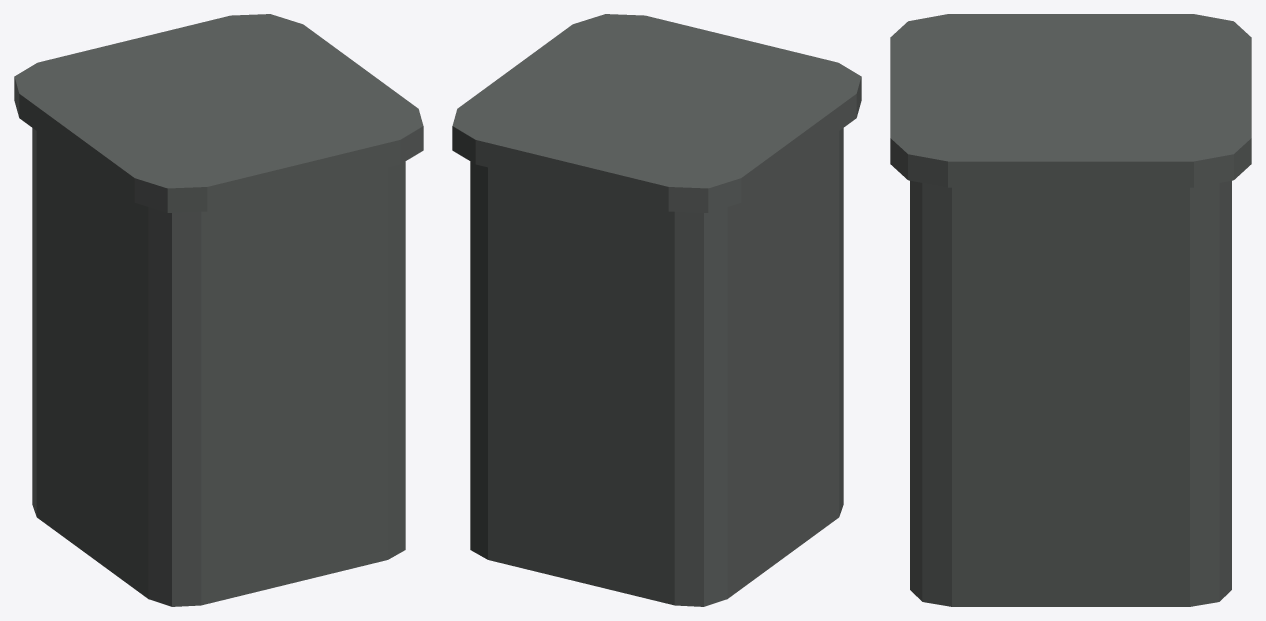
The model's file is Column.fbx.
3 views of the same model, side by side, from view 1: azimuth 30°, elevation 25°; view 2: azimuth 150°, elevation 25°; view 3: azimuth 270°, elevation 25° (orthographic). The views are drawn at different scales.
Parts seen in each view (by area): view 1: Wall2.085; view 2: Wall2.085; view 3: Wall2.085.
Boxes of the visible parts, x1,y1,x2,y2 form: Wall2.085: [14, 14, 423, 606]; Wall2.085: [452, 14, 861, 606]; Wall2.085: [890, 14, 1251, 606].
Bounding box in the file's own units: 126 × 180 × 130.
1 material, 1 textured.
